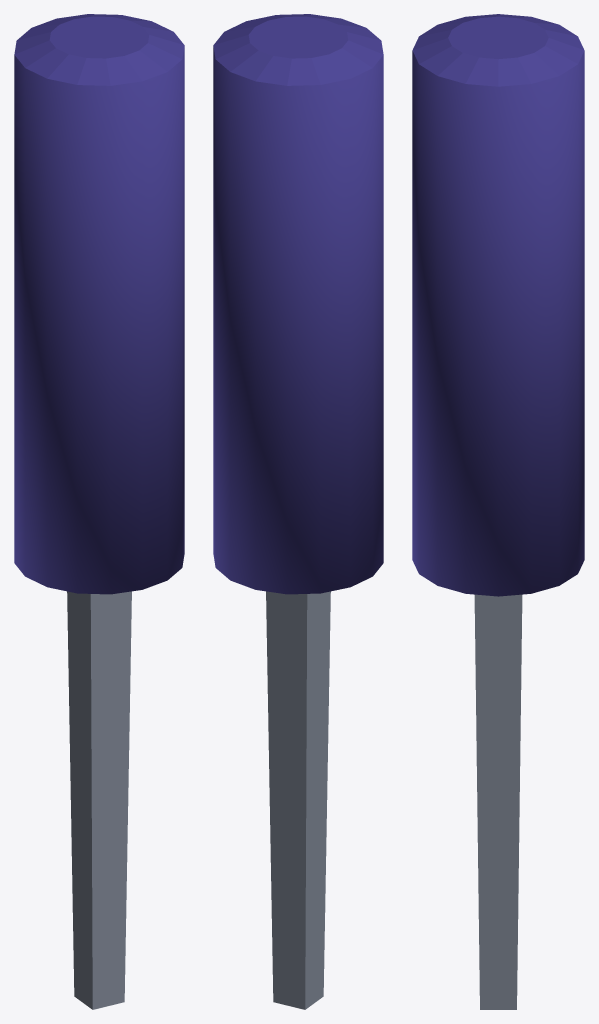
The model's file is lever-handle.fbx.
3 views of the same model, side by side, from view 1: azimuth 30°, elevation 25°; view 2: azimuth 150°, elevation 25°; view 3: azimuth 270°, elevation 25° (orthographic).
Parts seen in each view (by area): view 1: lever.001; view 2: lever.001; view 3: lever.001.
Part boxes in pixels (bbox=[...]): lever.001: bbox=[14, 14, 184, 1009]; lever.001: bbox=[213, 14, 383, 1009]; lever.001: bbox=[412, 14, 584, 1009].
Bounding box in the file's own units: 13.94 × 86.14 × 13.94.
